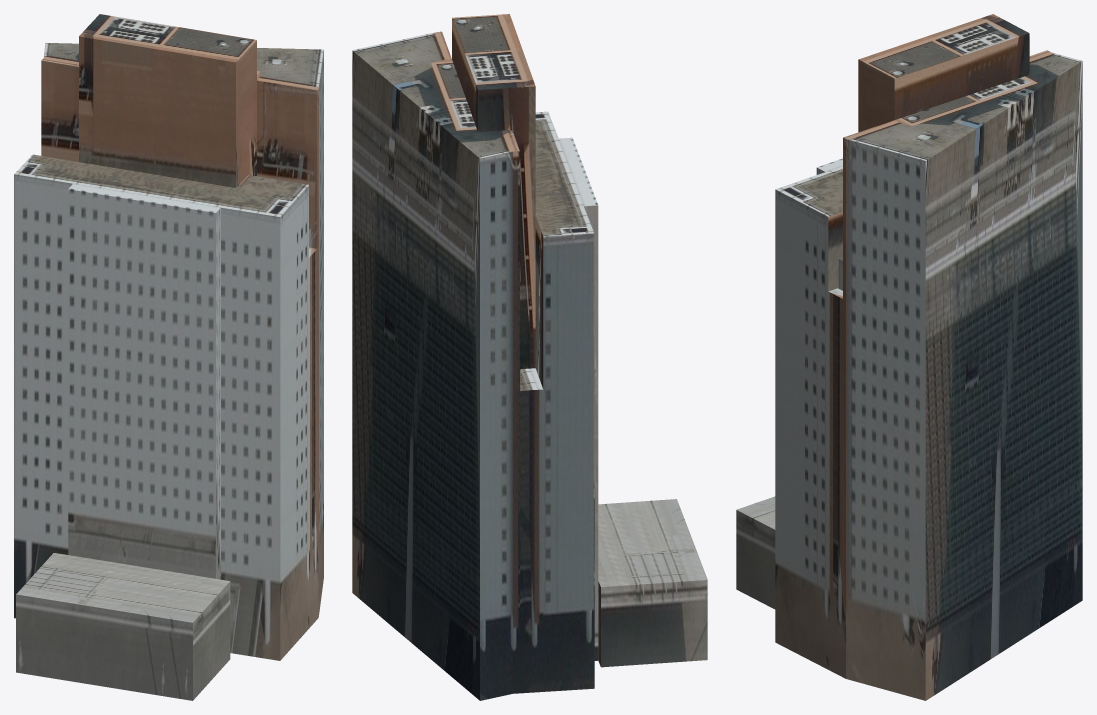
The picture shows the model from 3 angles, left to right: view 1: azimuth 30°, elevation 25°; view 2: azimuth 150°, elevation 25°; view 3: azimuth 270°, elevation 25°; orthographic projection. The views are drawn at different scales.
Parts seen in each view (by area): view 1: Z_UP; view 2: Z_UP; view 3: Z_UP.
Boxes of the visible parts, x1=… form: Z_UP: x1=14, y1=14, x2=323, y2=700; Z_UP: x1=352, y1=14, x2=707, y2=700; Z_UP: x1=736, y1=14, x2=1082, y2=700.
Bounding box in the file's own units: 54.51 × 90.66 × 48.94.
14 materials, 13 textured.
